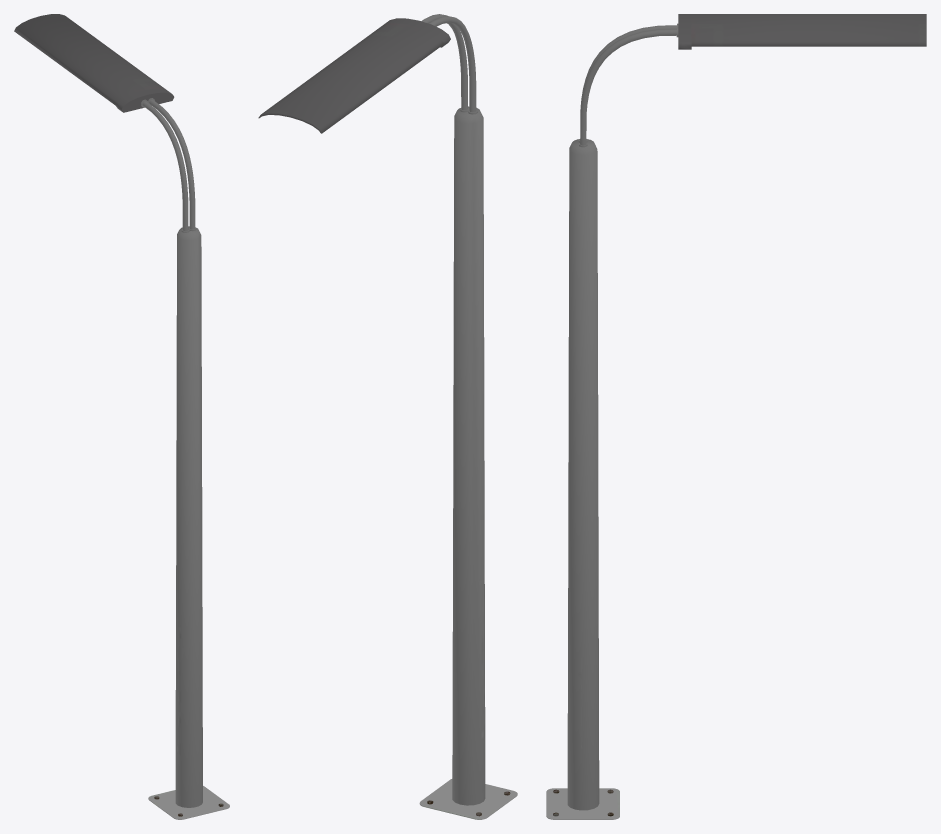
The model's file is scifi_lamp.glb.
3 views of the same model, side by side, from view 1: azimuth 30°, elevation 25°; view 2: azimuth 150°, elevation 25°; view 3: azimuth 270°, elevation 25° (orthographic). The views are drawn at different scales.
Visible parts, largest first — view 1: BezierCurve__0; view 2: BezierCurve__0; view 3: BezierCurve__0.
Part boxes in pixels (x1=…): BezierCurve__0: x1=14, y1=14, x2=229, y2=819; BezierCurve__0: x1=258, y1=14, x2=517, y2=819; BezierCurve__0: x1=546, y1=14, x2=926, y2=819.
Size of the model in its own units: 0.3968 by 4.65 by 2.05.
1 material, 1 textured.
